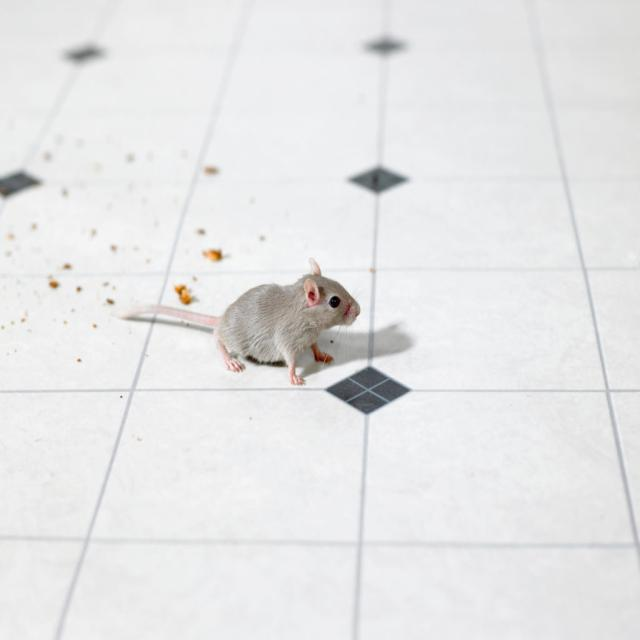rat: (119, 256, 381, 388)
